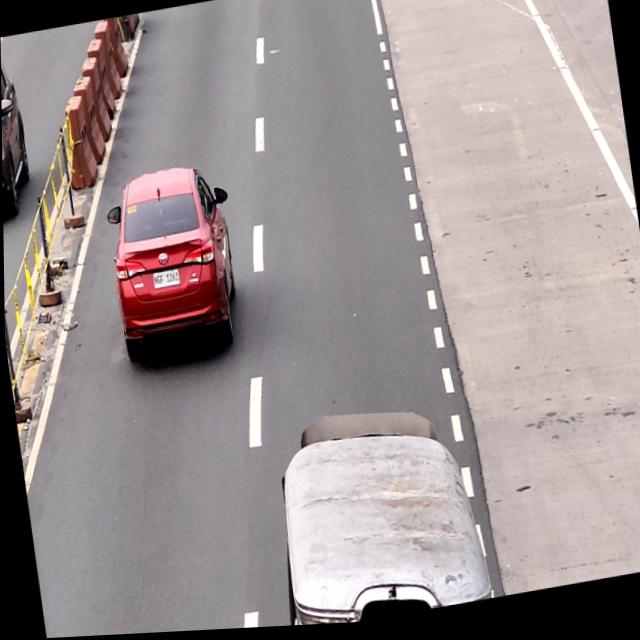Car: (103, 161, 244, 373)
Jeep: (266, 412, 485, 629)
License-Plate: (147, 266, 181, 294)
